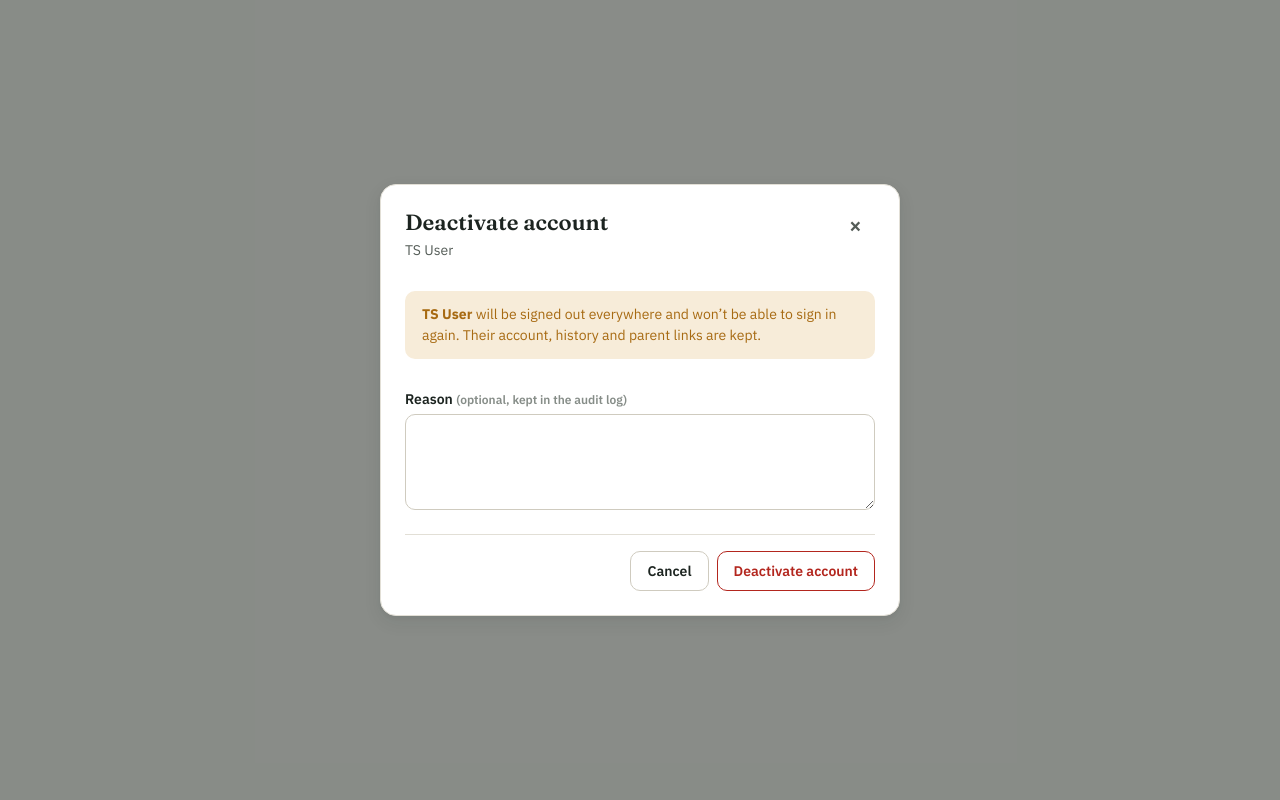
Test: LIN-22 administrator UI › shows a deactivation 409 message inside the modal
The image size is (1280, 800).
Click the button "Deactivate account" at x=796, y=571, box [716,551,875,591]
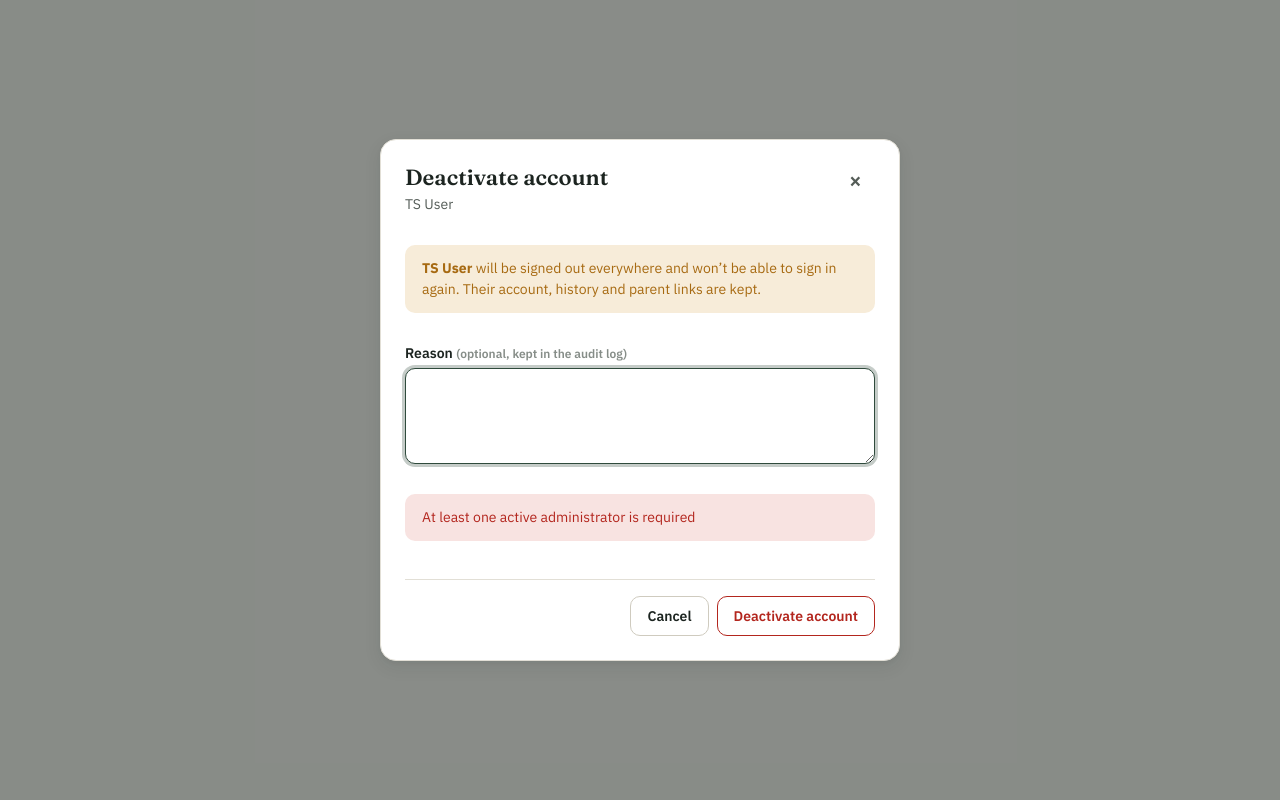
expect the message "At least one active administrator is required" is shown: met, box [405,494,875,541]
